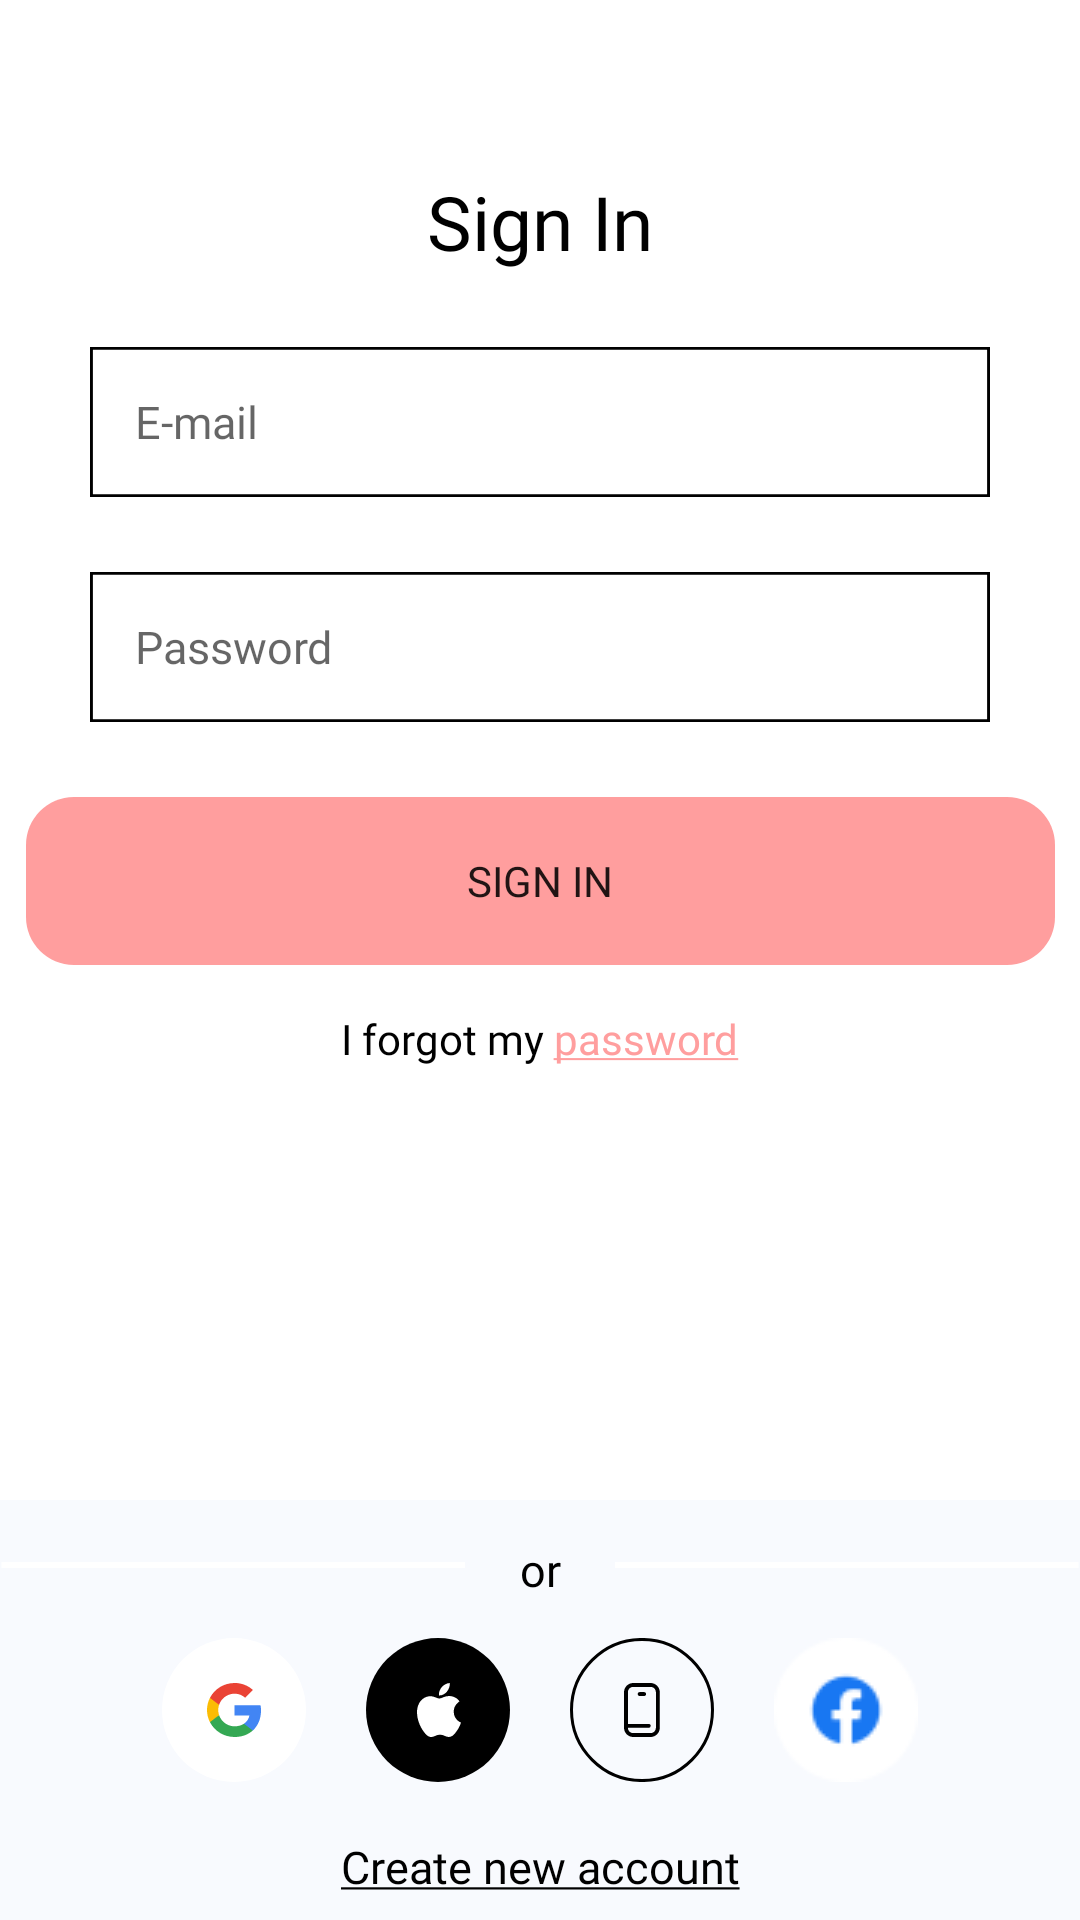

Locate icon controls on the screen. Image size 1080x1920, boxes as (x1,y1,x2,y2).
phone: (570,1638,714,1782)
